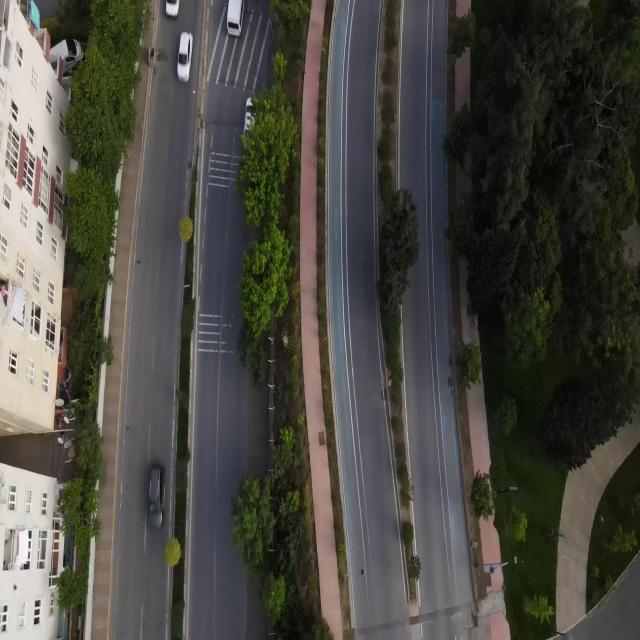p3rson: (0, 286, 8, 298), (57, 421, 61, 428)
